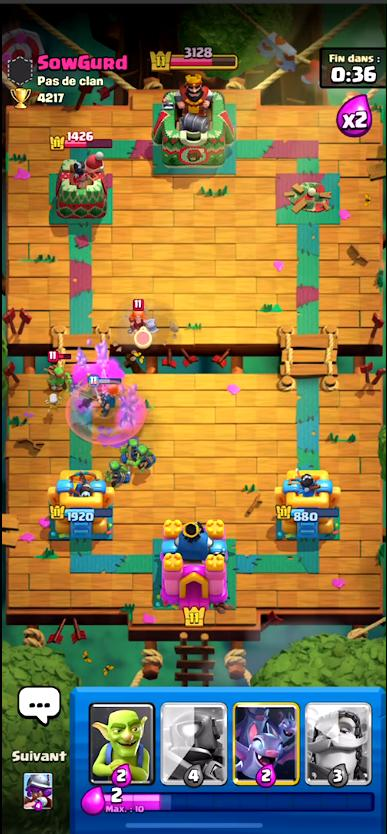gobelin_lances: (49, 349, 70, 391), (106, 458, 129, 484), (139, 443, 155, 472), (124, 439, 138, 455)
squelette: (48, 391, 61, 407)
valkyrie: (90, 375, 120, 415), (128, 298, 157, 335)
